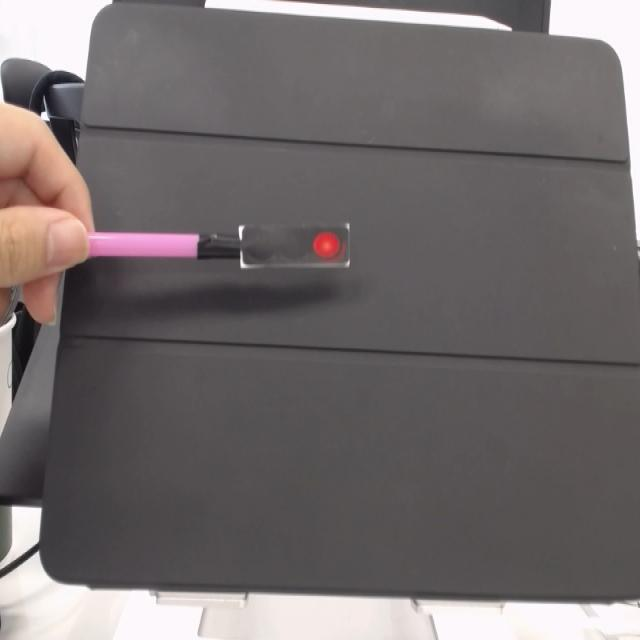traffic light: (238, 221, 356, 272)
